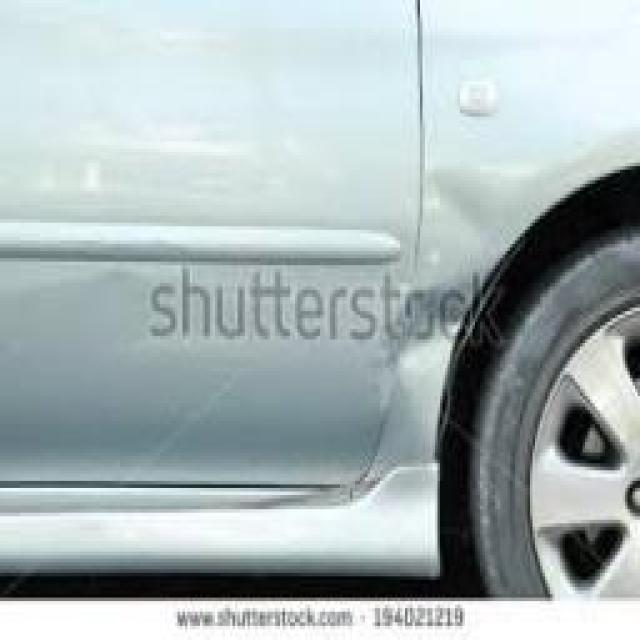Fender: (358, 0, 640, 484)
